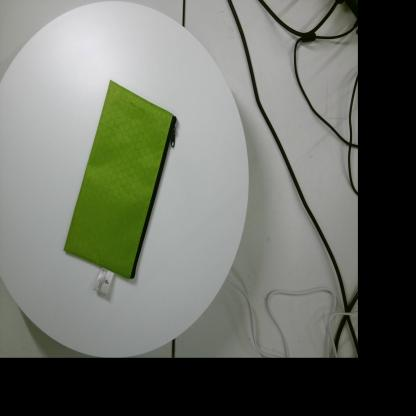Stationery: (63, 79, 177, 296)
